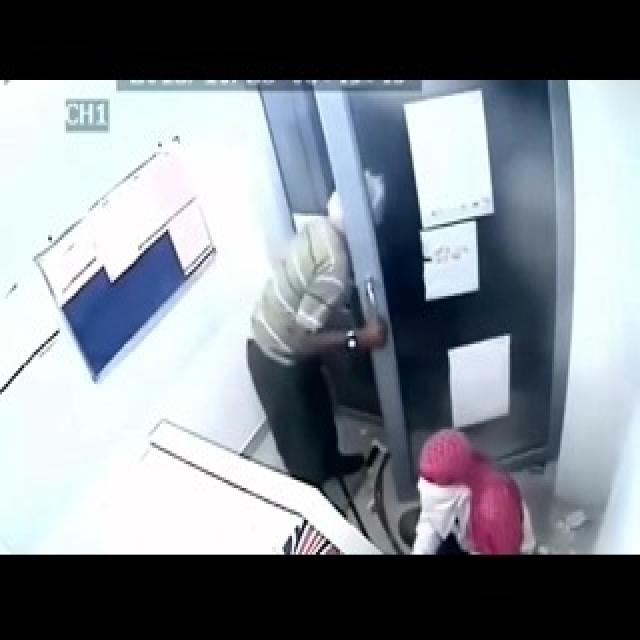thief: (224, 199, 350, 432), (374, 388, 486, 547)
